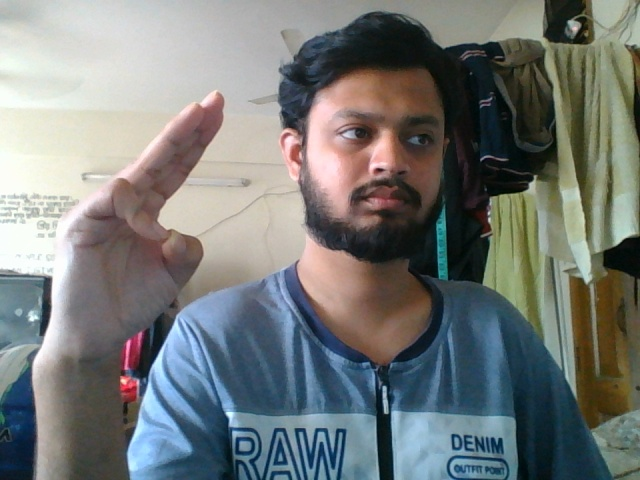ma: (36, 85, 227, 384)
